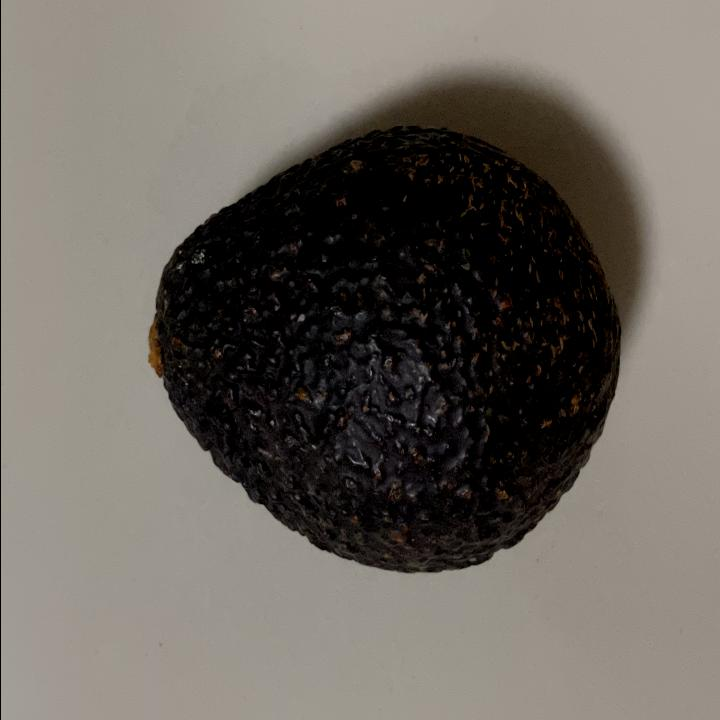Level2: (134, 116, 627, 588)
